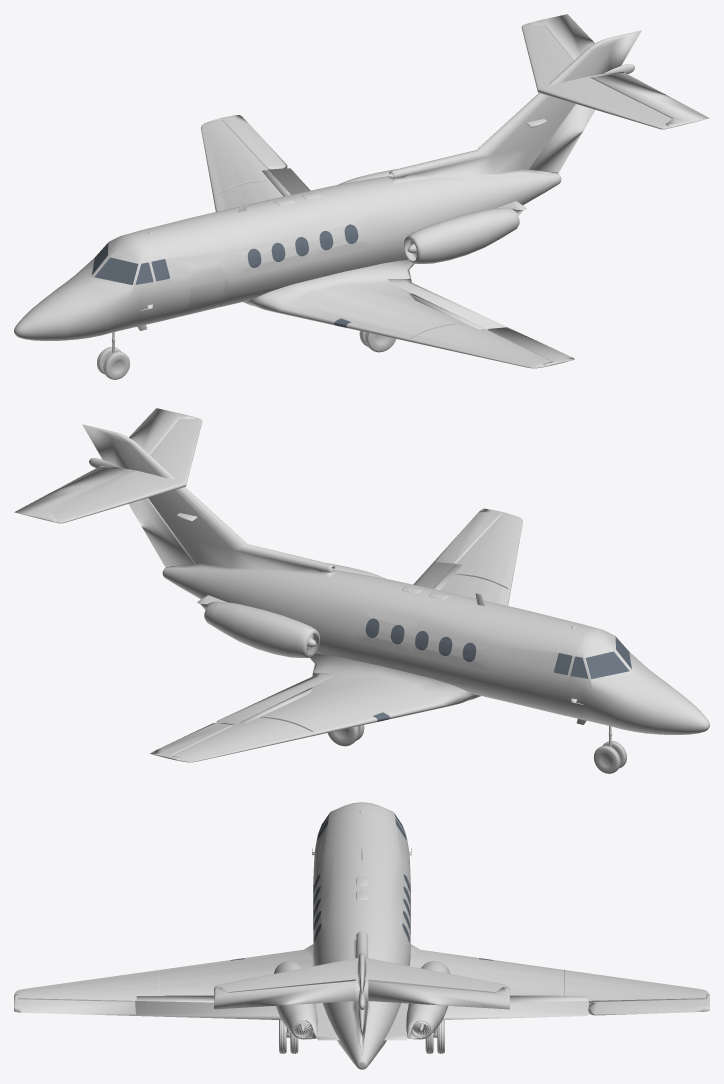
Rendered from BAe-125_bae125.glb.
The picture shows the model from 3 angles, top to bottom: view 1: azimuth 30°, elevation 25°; view 2: azimuth 150°, elevation 25°; view 3: azimuth 270°, elevation 25°; orthographic projection. The views are drawn at different scales.
Visible parts, largest first — view 1: airframe; view 2: airframe; view 3: airframe.
Boxes of the visible parts, x1=… form: airframe: x1=14, y1=14, x2=709, y2=379; airframe: x1=14, y1=408, x2=709, y2=773; airframe: x1=14, y1=802, x2=709, y2=1069.
Bounding box in the file's own units: 15.39 × 5.17 × 14.23.
